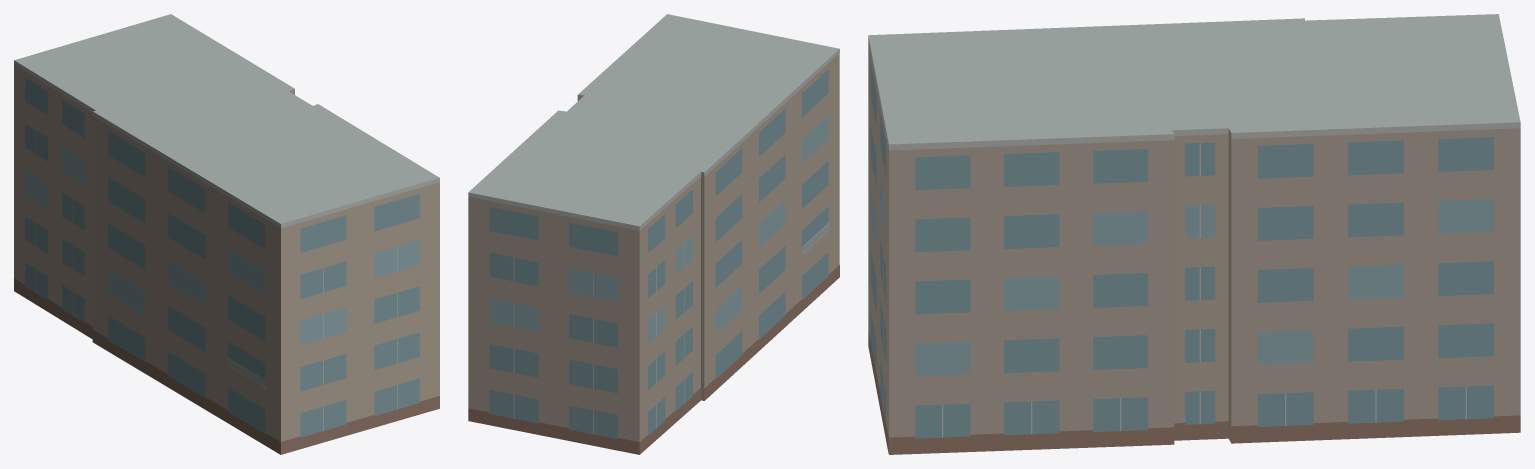
Rendered from survey-upis-32610594.glb.
3 renders of one model, left to right at view 1: azimuth 30°, elevation 25°; view 2: azimuth 150°, elevation 25°; view 3: azimuth 270°, elevation 25°, orthographic. The views are drawn at different scales.
Visible parts, largest first — view 1: survey-upis-32610594.tmp; view 2: survey-upis-32610594.tmp; view 3: survey-upis-32610594.tmp.
Part boxes in pixels (x1=…): survey-upis-32610594.tmp: x1=14, y1=14, x2=439, y2=454; survey-upis-32610594.tmp: x1=468, y1=14, x2=839, y2=454; survey-upis-32610594.tmp: x1=868, y1=14, x2=1520, y2=454.
Size of the model in its own units: 11.46 by 12.7 by 24.2.
